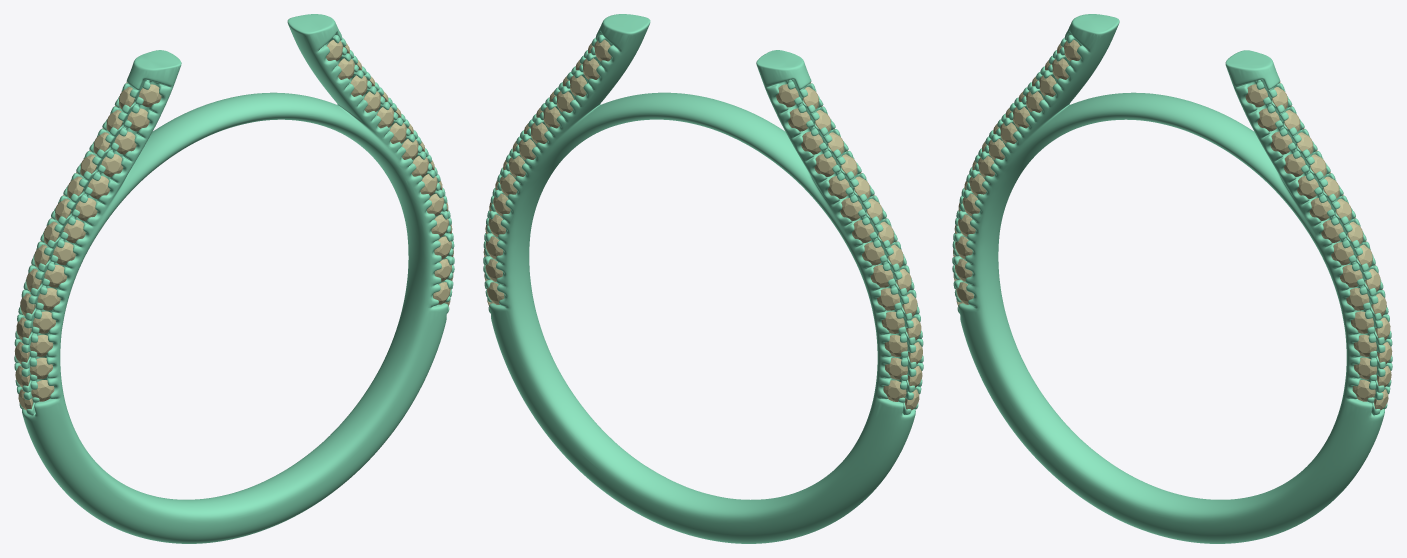
3 views of the same model, side by side, from view 1: azimuth 30°, elevation 25°; view 2: azimuth 150°, elevation 25°; view 3: azimuth 330°, elevation 25° (orthographic).
Visible parts, largest first — view 1: Metal02; view 2: Metal02; view 3: Metal02.
Boxes of the visible parts, <box> form: Metal02: <box>14,14,454,543</box>; Metal02: <box>483,14,923,543</box>; Metal02: <box>952,14,1392,543</box>.
Size of the model in its own units: 20.88 by 22.82 by 1.86.
